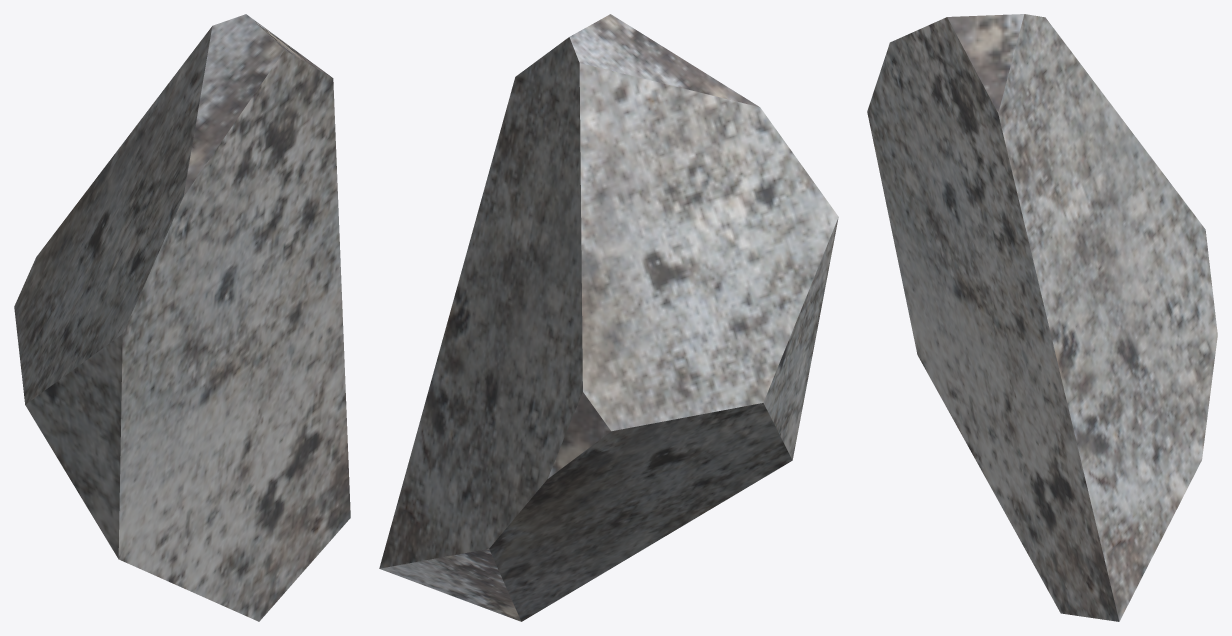
The model's file is Asteroid_Large_001_02_005_03_006.fbx.
The picture shows the model from 3 angles, left to right: view 1: azimuth 30°, elevation 25°; view 2: azimuth 150°, elevation 25°; view 3: azimuth 270°, elevation 25°; orthographic projection. The views are drawn at different scales.
Parts seen in each view (by area): view 1: Asteroid_Large_001_02_005_03_006; view 2: Asteroid_Large_001_02_005_03_006; view 3: Asteroid_Large_001_02_005_03_006.
Boxes of the visible parts, bbox=[...] form: Asteroid_Large_001_02_005_03_006: bbox=[14, 14, 350, 621]; Asteroid_Large_001_02_005_03_006: bbox=[379, 14, 838, 621]; Asteroid_Large_001_02_005_03_006: bbox=[867, 14, 1217, 621].
Bounding box in the file's own units: 6.07 × 9.83 × 5.34.
